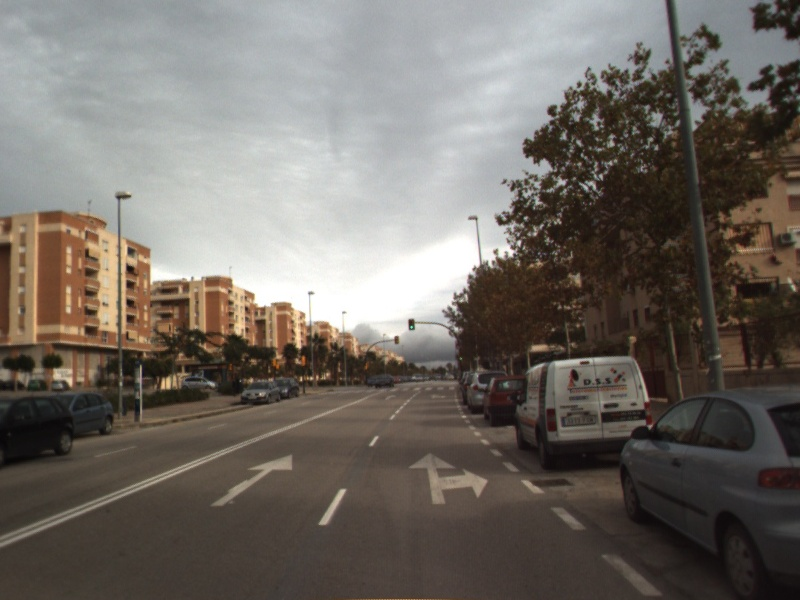STRAIGHT: (208, 452, 294, 508)
STRAIGHT_RIGHT: (406, 451, 491, 506)
